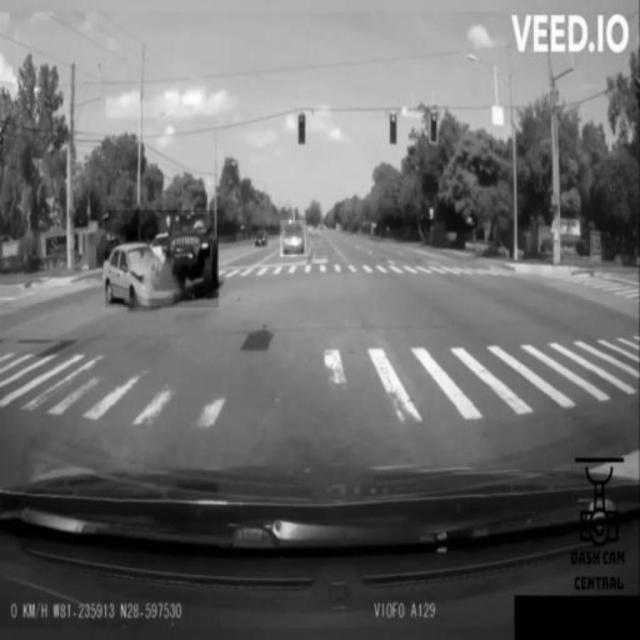accident: (106, 210, 219, 308)
vehicle: (280, 220, 306, 256)
